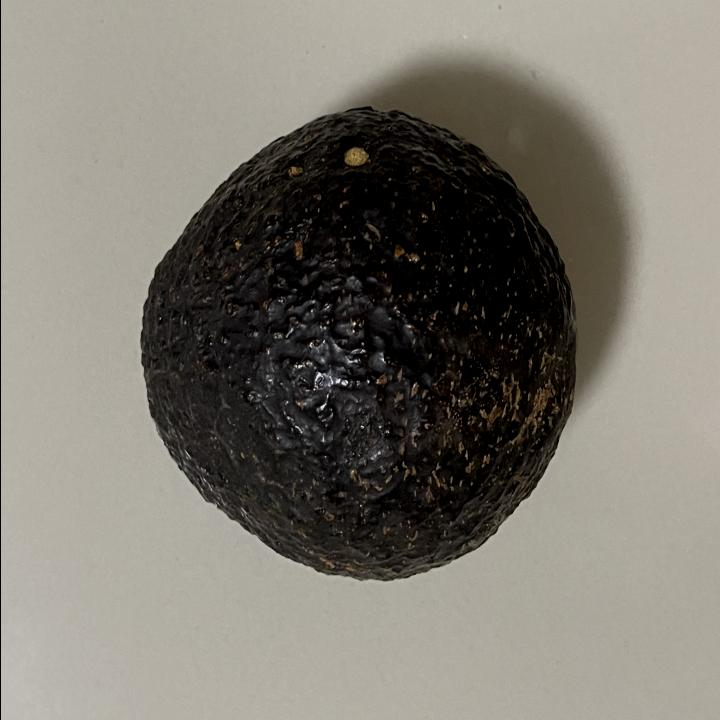Level3: (127, 95, 582, 597)
